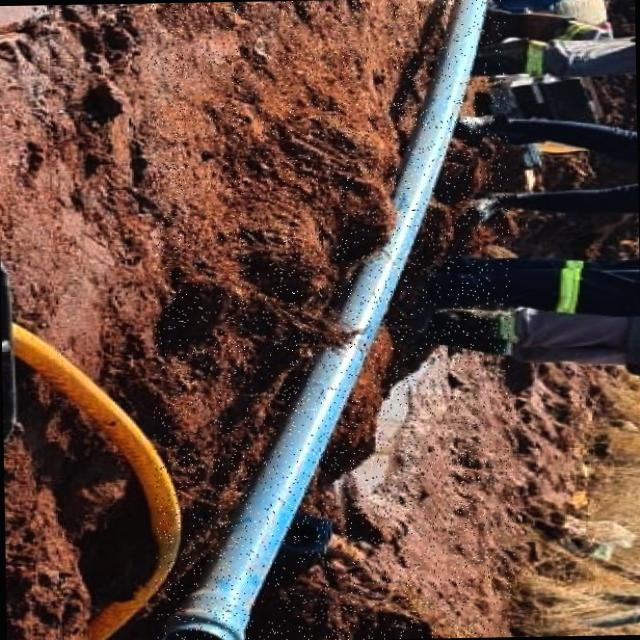gas: (161, 0, 485, 640)
